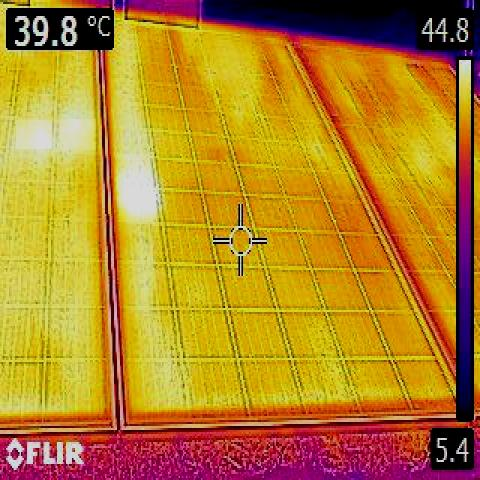fault: (116, 154, 154, 192), (119, 188, 157, 222), (60, 119, 96, 150), (16, 120, 52, 149)
